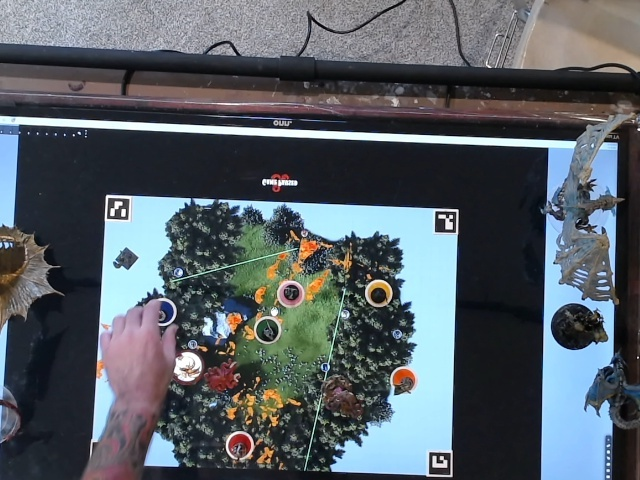blue: (146, 296, 180, 327)
green: (252, 314, 287, 348)
orange: (381, 362, 419, 397)
pink: (276, 278, 308, 309)
red: (222, 426, 257, 462)
yellow: (364, 276, 397, 308)
